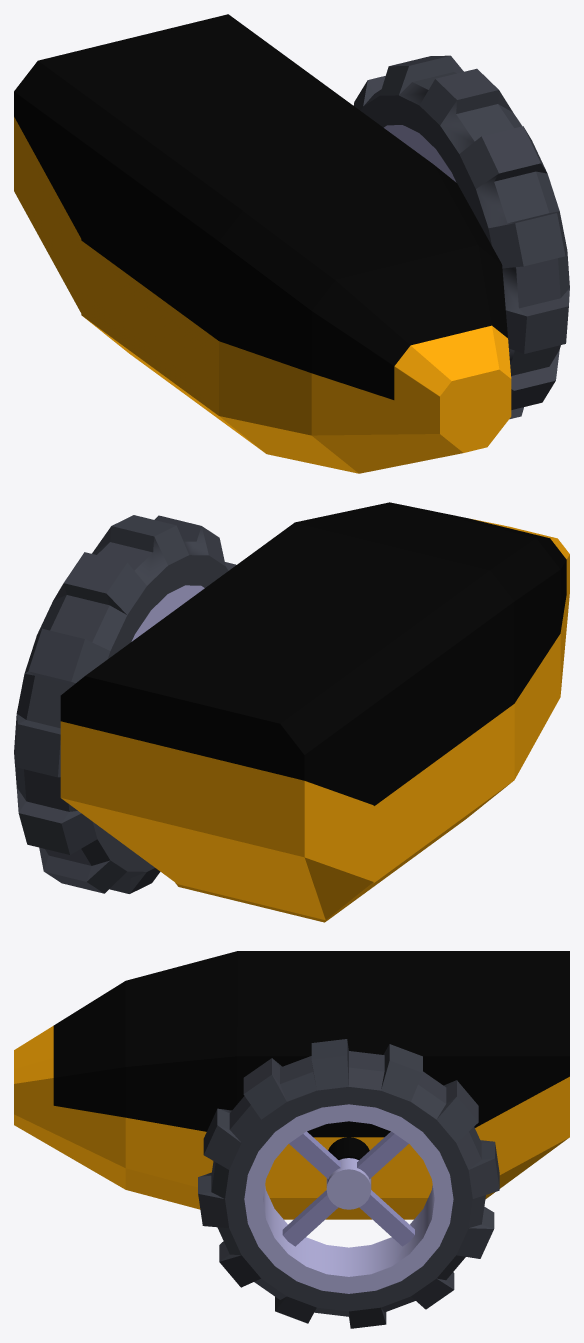
The model's file is SideCar_01.fbx.
3 renders of one model, top to bottom at view 1: azimuth 30°, elevation 25°; view 2: azimuth 150°, elevation 25°; view 3: azimuth 270°, elevation 25°, orthographic. The views are drawn at different scales.
Visible parts, largest first — view 1: hull_frontNose, hull_body, wheel_cycleDirt, hull_slant; view 2: hull_slant, hull_body, wheel_cycleDirt, hull_frontNose; view 3: wheel_cycleDirt, hull_frontNose, hull_body, hull_slant, cylinder.
Part boxes in pixels (bbox=[...]): hull_frontNose: bbox=[219, 164, 511, 473]; hull_body: bbox=[81, 63, 432, 451]; wheel_cycleDirt: bbox=[353, 55, 569, 419]; hull_slant: bbox=[14, 14, 295, 312]; hull_slant: bbox=[60, 625, 374, 920]; hull_body: bbox=[154, 522, 514, 922]; wheel_cycleDirt: bbox=[14, 515, 235, 893]; hull_frontNose: bbox=[295, 502, 569, 779]; wheel_cycleDirt: bbox=[198, 1039, 499, 1328]; hull_frontNose: bbox=[14, 951, 237, 1209]; hull_body: bbox=[237, 951, 460, 1219]; hull_slant: bbox=[458, 951, 569, 1199]; cylinder: bbox=[328, 1137, 369, 1159].
Size of the model in its own units: 7.21 by 6.76 by 12.45.
